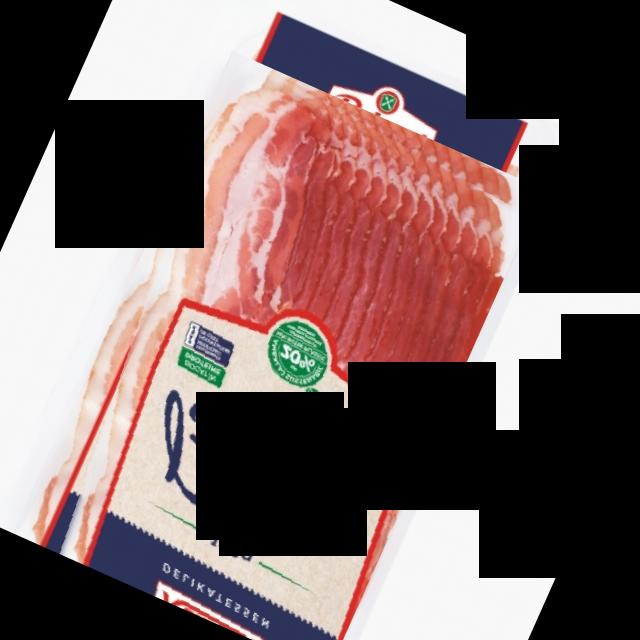bacon: (16, 51, 543, 640)
